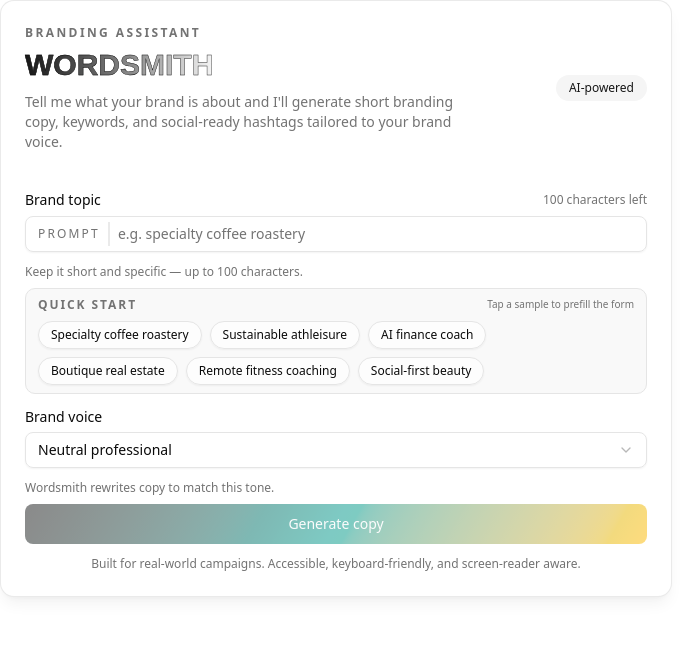
WordsmithCard Integration › validates gibberish input
Type gibberish (short repeating characters)
Type "bbbbbbbb" into the field with placeholder "e.g. specialty coffee roastery" at [378, 234], box [110,216,646,252]
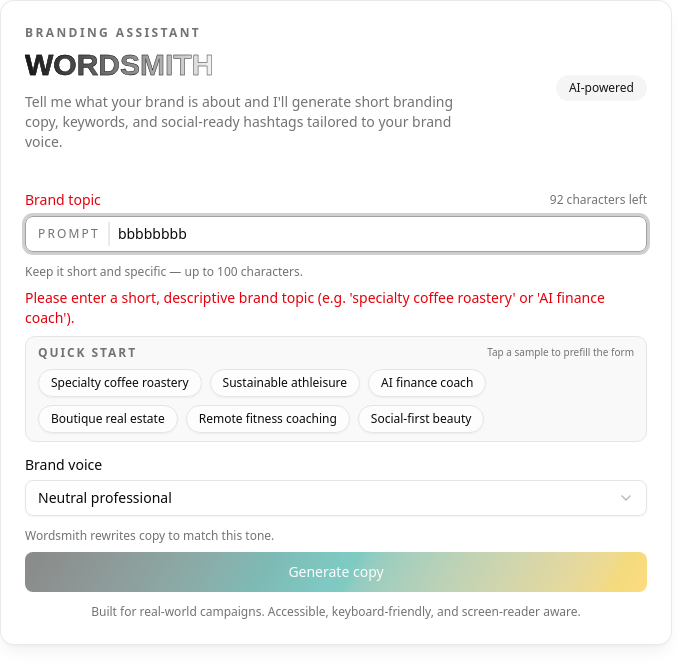
Check: the button "Generate copy" is disabled, box [25,552,647,592]
Type valid input
Replace the text in the field with placeholder "e.g. specialty coffee roastery" with "Specialty coffee roastery" at [378, 234], box [110,216,646,252]
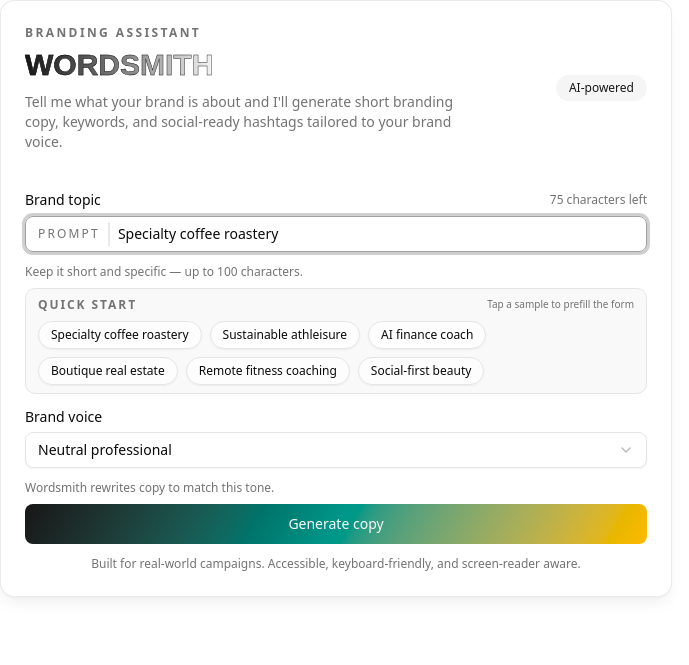
Check: the button "Generate copy" is enabled, box [25,504,647,544]
